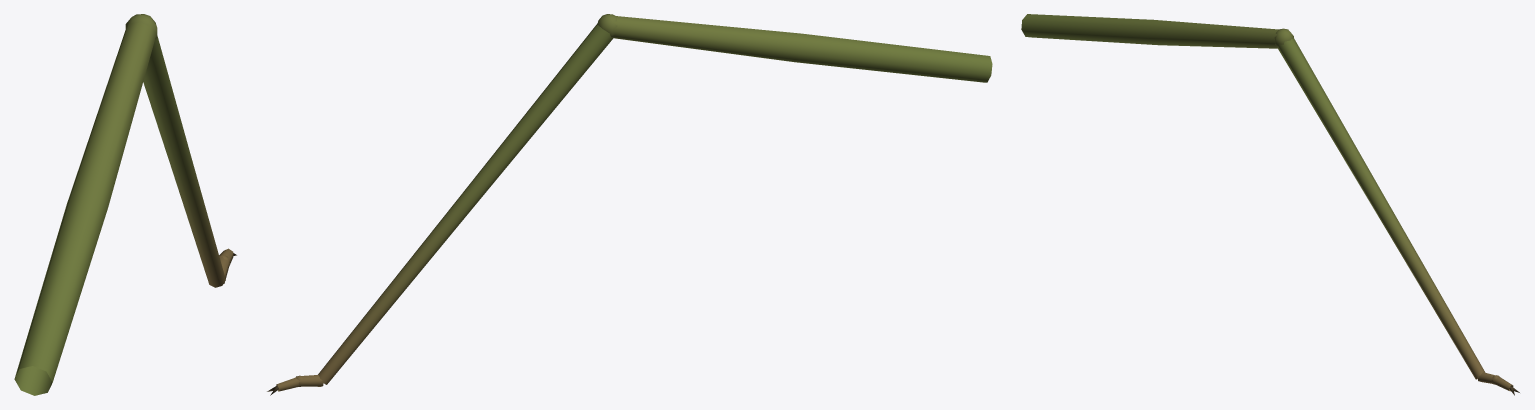
File: Nanafushi_Leg1.fbx
3 renders of one model, left to right at view 1: azimuth 30°, elevation 25°; view 2: azimuth 150°, elevation 25°; view 3: azimuth 270°, elevation 25°, orthographic. The views are drawn at different scales.
Parts seen in each view (by area): view 1: Nanafushi_Leg1; view 2: Nanafushi_Leg1; view 3: Nanafushi_Leg1.
Part boxes in pixels (x1,y1,x2,y2): Nanafushi_Leg1: (14, 14, 236, 395); Nanafushi_Leg1: (267, 14, 992, 395); Nanafushi_Leg1: (1021, 14, 1519, 395).
Bounding box in the file's own units: 0.7781 × 0.5494 × 0.8848.
